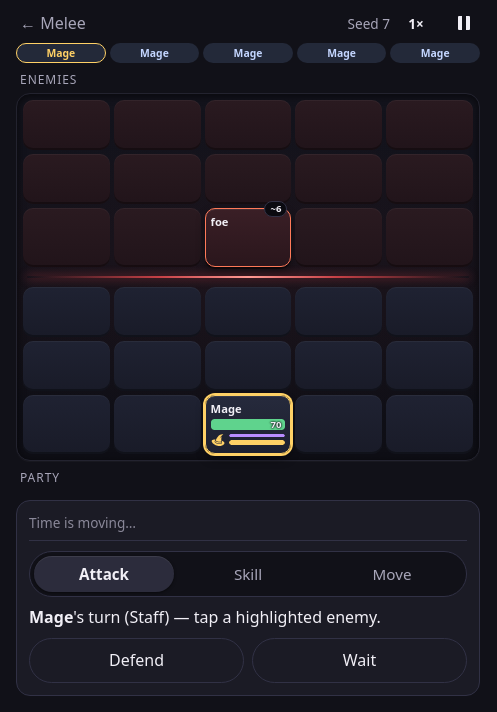
BattleScreen › given the skill list, when a skill is picked, then its target is asked for
Expected: the element named "Action" is shown, [29,551,467,597]
Click the button "Skill": click(248, 574) [178,556,318,592]
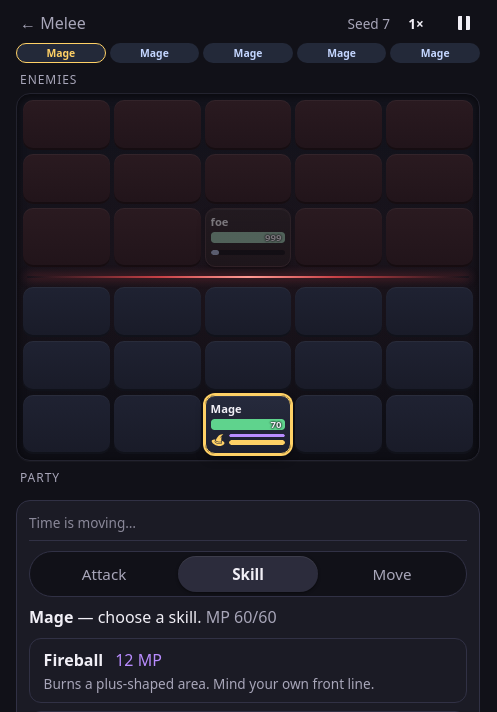
Click the button that starts with "Fireball": click(73, 660) [29,638,467,703]
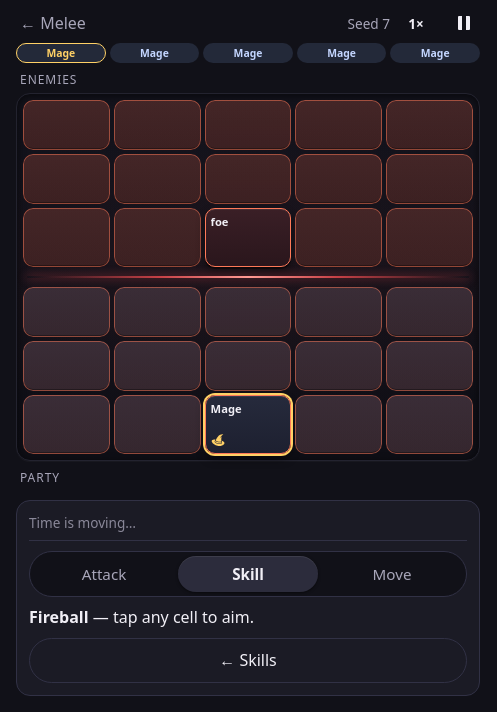
Result: the text "Fireball" is shown at [29,606,89,628]
